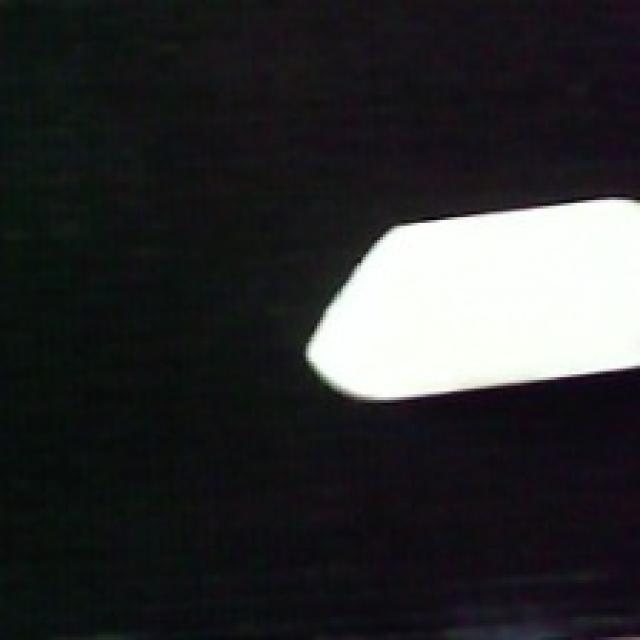defected: (300, 192, 640, 409)
